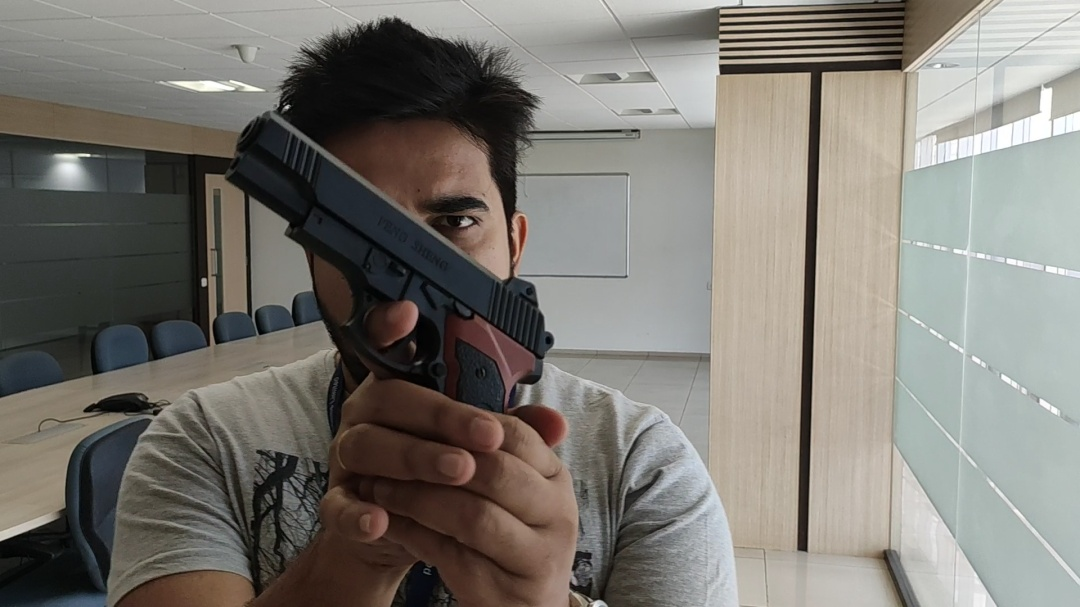gun: (220, 106, 556, 412)
